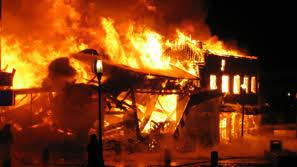fire: (1, 0, 241, 132)
